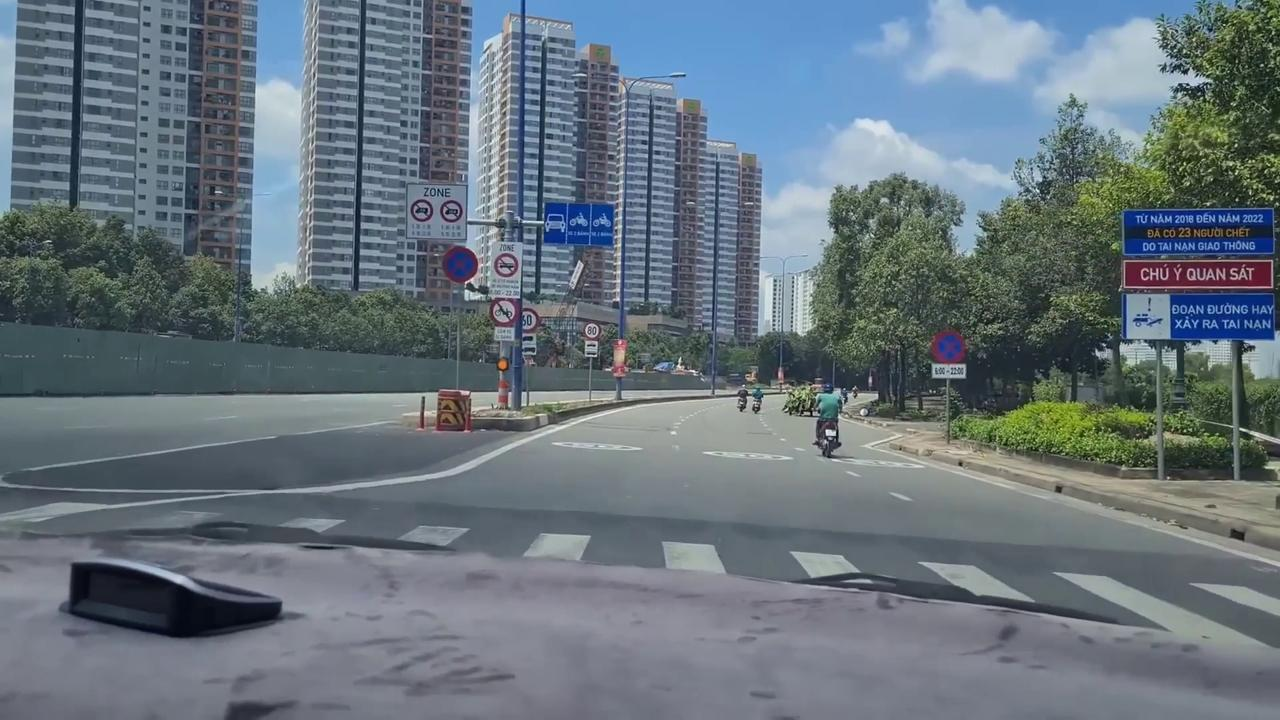Biển phụ: (931, 362, 967, 378), (519, 333, 537, 355), (493, 327, 515, 342), (584, 340, 598, 358)
Cấm cac phương tiện hoạt động trong khung giờ cố định: (404, 182, 470, 241), (487, 241, 522, 299)
Cấm dừng - Cấm đỗ: (440, 243, 480, 282), (930, 328, 968, 364)
Cấm xe máy: (488, 297, 520, 327)
GIơi hạn tốc độ 60Km/h: (520, 307, 540, 333)
Giới hạn tốc độ 80Km/h: (583, 321, 602, 340)
Khác: (1120, 207, 1277, 343)
Làn đường cho từng xe: (544, 201, 614, 249)
